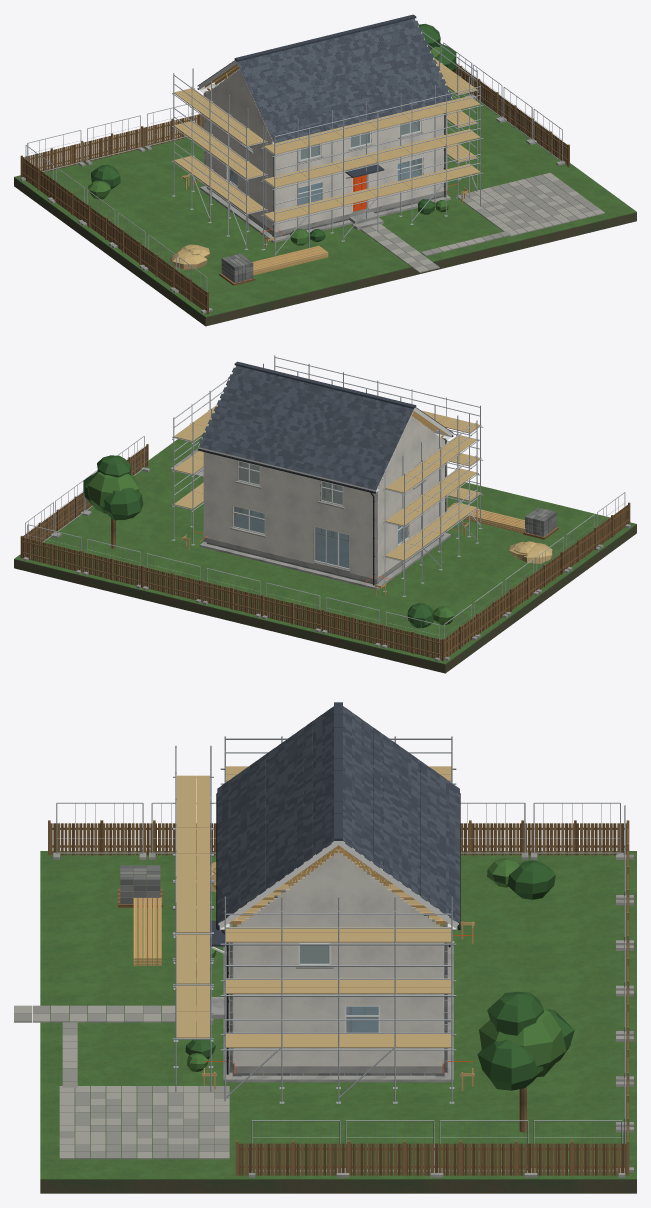
File: house-C3ikaQpl.glb
3 views of the same model, one above another, from view 1: azimuth 30°, elevation 25°; view 2: azimuth 150°, elevation 25°; view 3: azimuth 270°, elevation 25° (orthographic). The views are drawn at different scales.
Parts seen in each view (by area): view 1: lawn, scaffolding, slates_front, boundary_fence, render_front, path_and_drive, plot_ground, render_left, site_fencing, site_materials, planting, windows_front (+3 smaller); view 2: lawn, slates_back, boundary_fence, render_back, scaffolding, plot_ground, render_left, site_fencing, planting, windows_back, site_materials, ridge_and_fascia (+3 smaller); view 3: lawn, scaffolding, render_right, boundary_fence, path_and_drive, slates_back, slates_front, planting, plot_ground, site_fencing, site_materials, ridge_and_fascia (+7 smaller).
Boxes of the visible parts, box(x1,y1,x2,y2) form: lawn: box(14, 88, 636, 317); scaffolding: box(172, 30, 483, 256); slates_front: box(237, 19, 451, 142); boundary_fence: box(20, 64, 569, 314); render_front: box(273, 114, 447, 236); path_and_drive: box(349, 172, 604, 272); plot_ground: box(14, 178, 636, 326); render_left: box(206, 69, 273, 234); site_fencing: box(20, 42, 565, 313); site_materials: box(169, 244, 328, 285); planting: box(88, 23, 456, 245); windows_front: box(298, 119, 423, 205); lawn: box(14, 435, 636, 664); slates_back: box(199, 366, 413, 490); boundary_fence: box(20, 444, 630, 661); render_back: box(203, 452, 377, 583); scaffolding: box(172, 355, 483, 596); plot_ground: box(14, 525, 636, 673); render_left: box(377, 416, 444, 581); site_fencing: box(19, 436, 630, 661); planting: box(83, 455, 455, 628); windows_back: box(230, 460, 349, 570); site_materials: box(447, 503, 558, 563); ridge_and_fascia: box(198, 361, 452, 492); lawn: box(40, 851, 636, 1179); scaffolding: box(173, 736, 456, 1103); render_right: box(234, 851, 443, 1073); boundary_fence: box(48, 820, 629, 1175); path_and_drive: box(14, 997, 229, 1159); slates_back: box(343, 706, 459, 922); slates_front: box(217, 706, 333, 922); planting: box(185, 857, 574, 1132); plot_ground: box(40, 1180, 636, 1193); site_fencing: box(53, 802, 633, 1177); site_materials: box(118, 862, 216, 965); ridge_and_fascia: box(218, 702, 458, 930).
Bounding box in the file's own units: 26 × 9.58 × 20.88.
31 materials, 7 textured.
